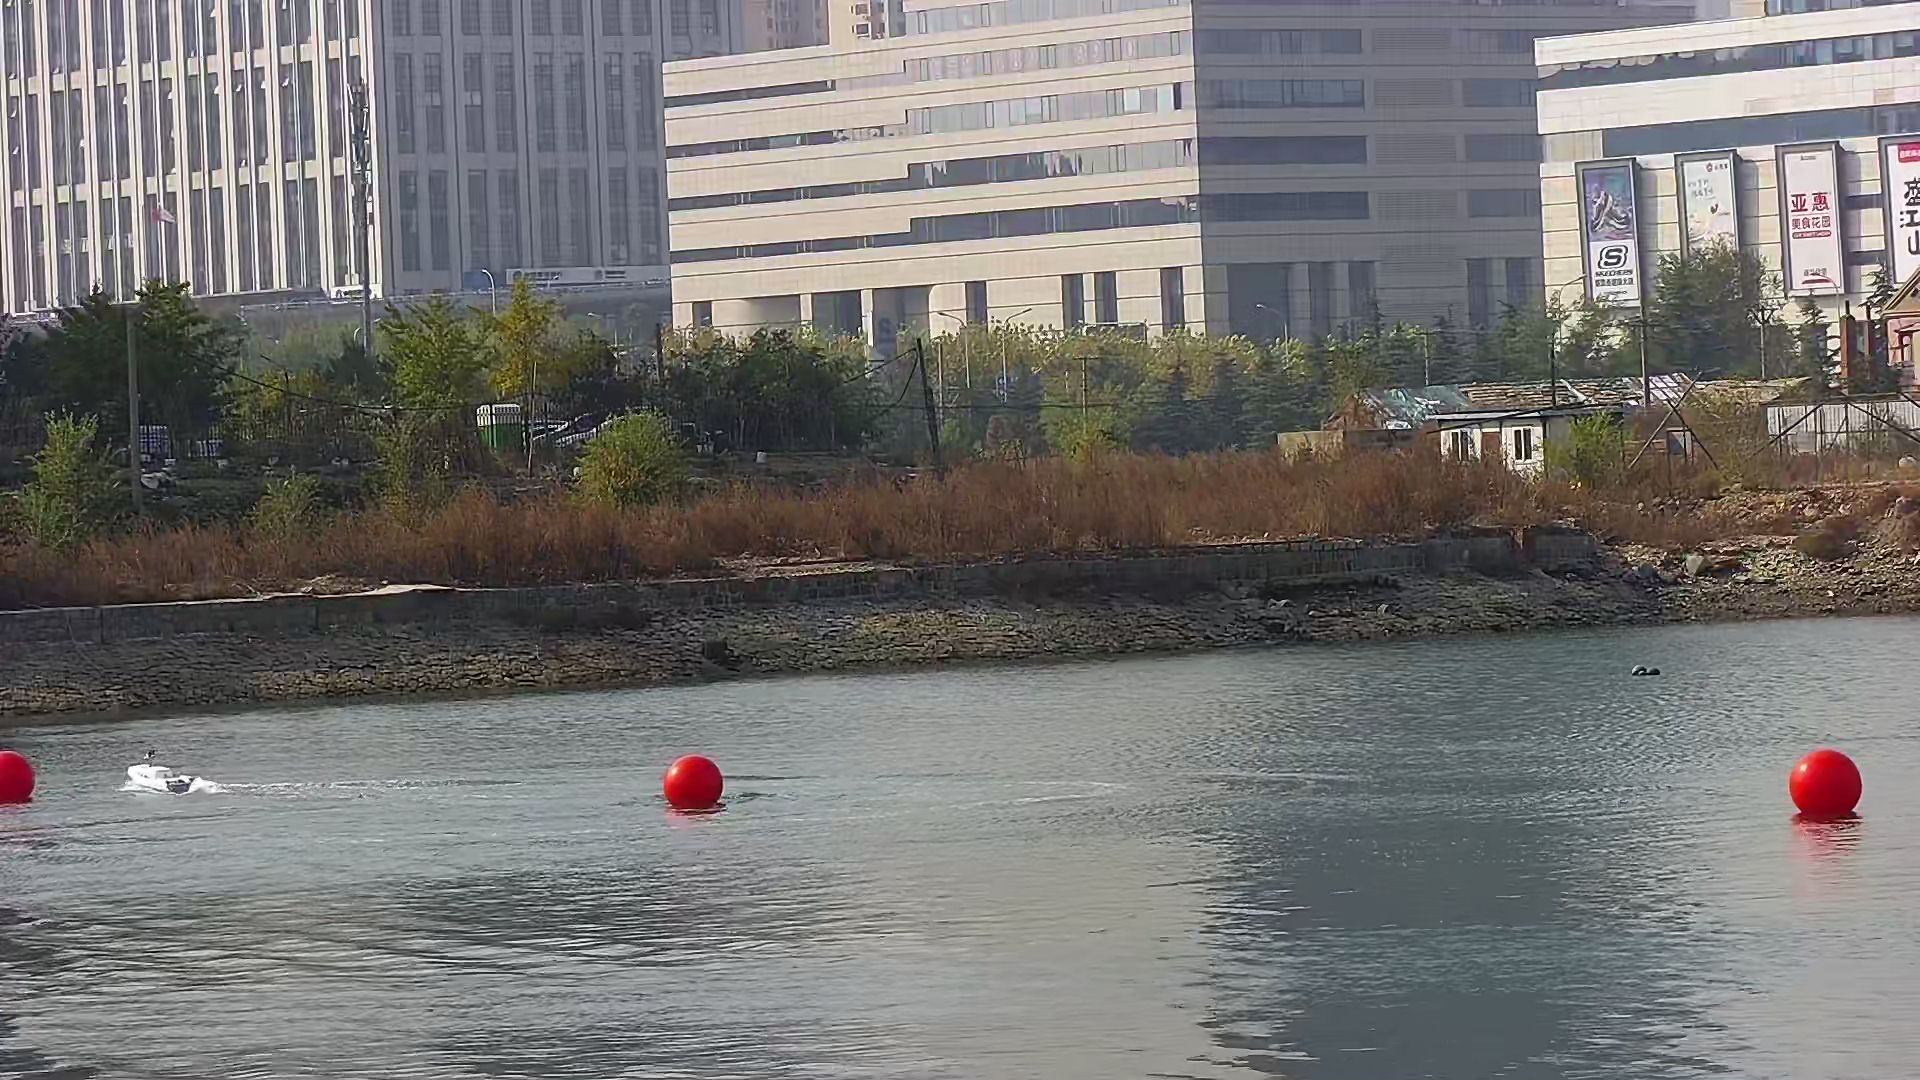ball: (1783, 745, 1867, 825), (665, 754, 728, 818)
boat: (117, 748, 204, 799)
rubbish: (1629, 661, 1663, 679)
